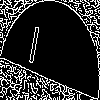I: (25, 25, 42, 74)
